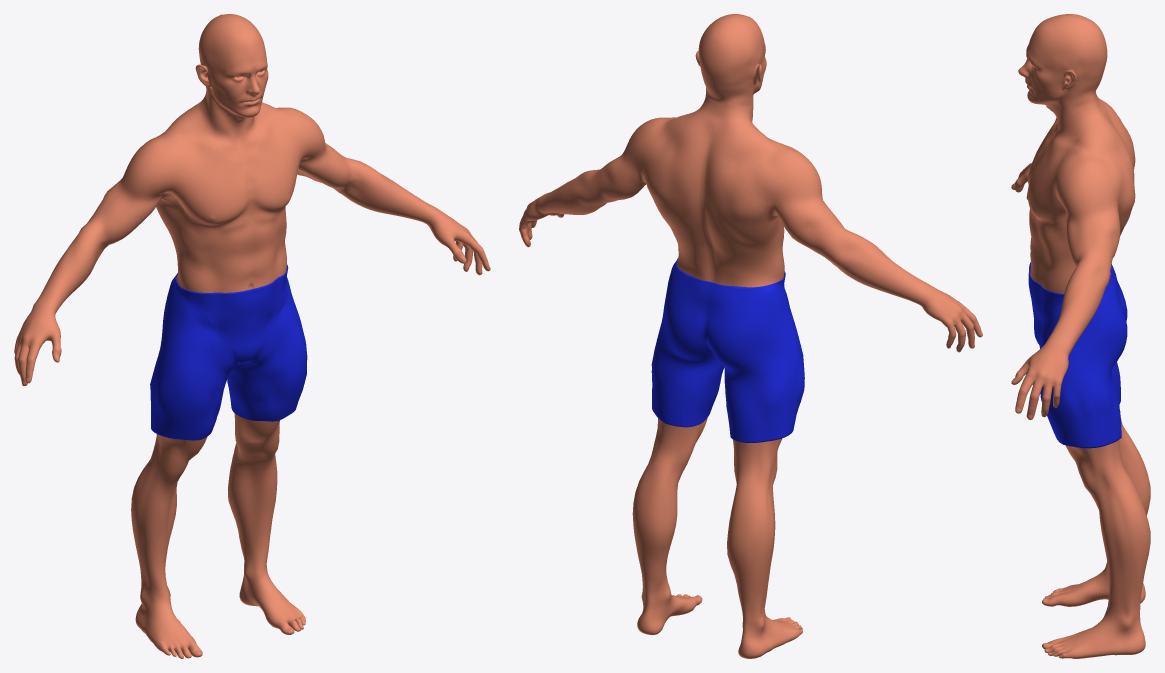
The model's file is base_human.fbx.
The picture shows the model from 3 angles, left to right: view 1: azimuth 30°, elevation 25°; view 2: azimuth 150°, elevation 25°; view 3: azimuth 270°, elevation 25°; orthographic projection. The views are drawn at different scales.
Visible parts, largest first — view 1: body.001, shorts; view 2: body.001, shorts; view 3: body.001, shorts.
Boxes of the visible parts, bbox=[...] form: body.001: bbox=[14, 14, 490, 658]; shorts: bbox=[150, 264, 307, 440]; body.001: bbox=[519, 14, 982, 658]; shorts: bbox=[651, 258, 804, 442]; body.001: bbox=[1011, 14, 1150, 658]; shorts: bbox=[1028, 262, 1127, 448].
Size of the model in its own units: 140 by 179 by 36.98.
